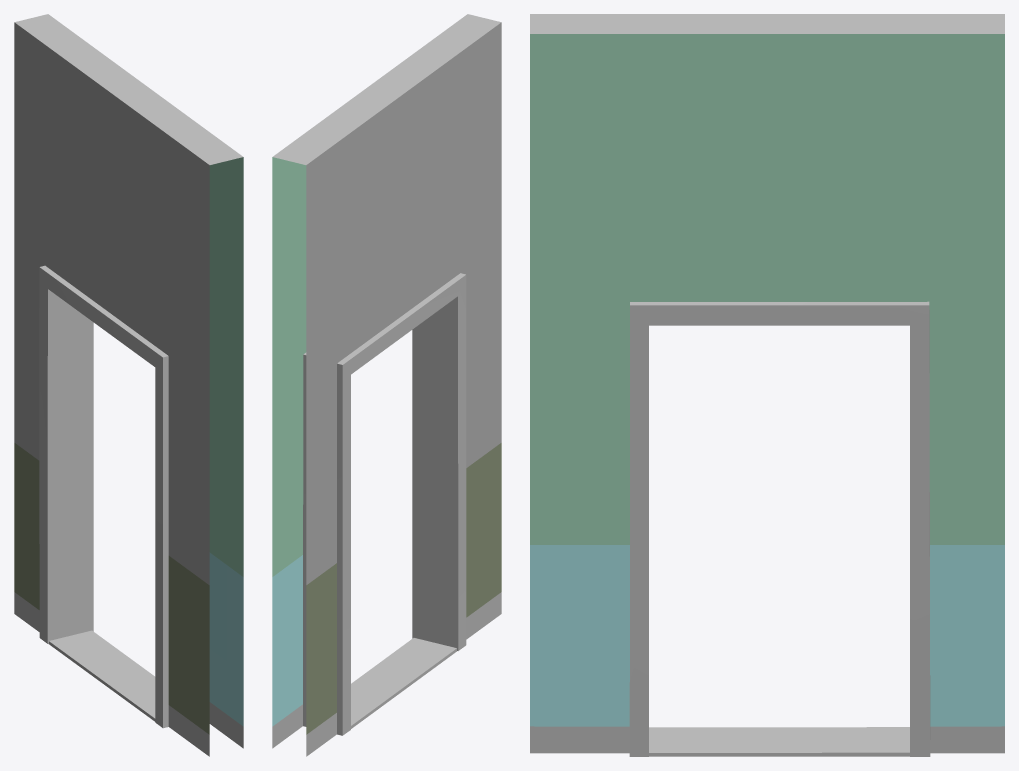
The model's file is SM_DoorFrame_200.fbx.
3 views of the same model, side by side, from view 1: azimuth 30°, elevation 25°; view 2: azimuth 150°, elevation 25°; view 3: azimuth 270°, elevation 25° (orthographic). The views are drawn at different scales.
Parts seen in each view (by area): view 1: SM_DoorFrame_200; view 2: SM_DoorFrame_200; view 3: SM_DoorFrame_200.
Boxes of the visible parts, x1,y1,x2,y2 form: SM_DoorFrame_200: (14,14,243,756); SM_DoorFrame_200: (272,14,501,756); SM_DoorFrame_200: (530,14,1004,756).
Bounding box in the file's own units: 27.36 × 335 × 200.
